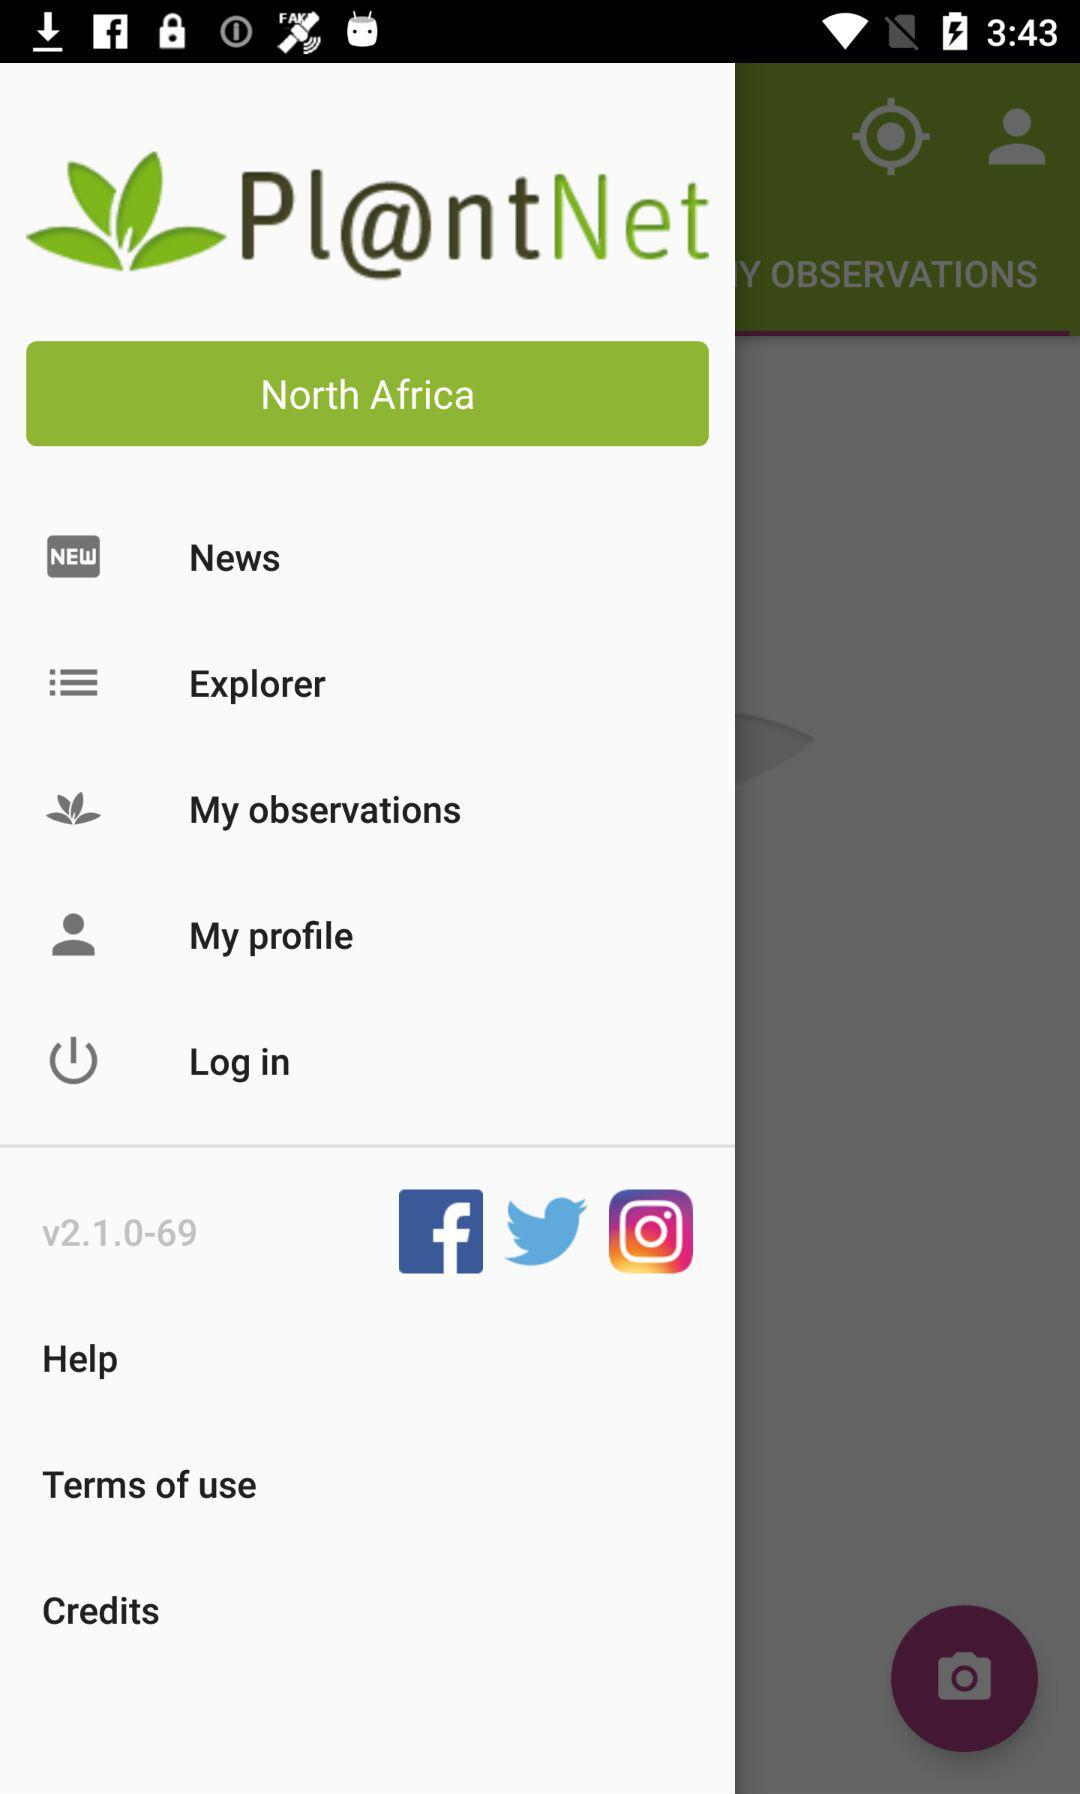Drawer: (1, 64, 735, 1794)
Icon: (398, 1189, 486, 1275), (503, 1196, 589, 1269), (53, 912, 97, 957), (50, 668, 99, 698)
Image: (26, 150, 711, 283), (609, 1188, 694, 1275), (49, 1035, 99, 1085), (47, 536, 102, 579), (46, 792, 102, 827)
Text: (190, 793, 462, 835), (42, 1469, 258, 1501), (190, 919, 355, 959), (191, 668, 328, 707), (41, 1217, 199, 1248), (190, 1044, 291, 1085), (44, 1595, 161, 1626), (190, 543, 282, 575), (44, 1343, 119, 1380)
TextButton: (27, 341, 710, 448)
UpperTaskBar: (1, 1, 1080, 64)
